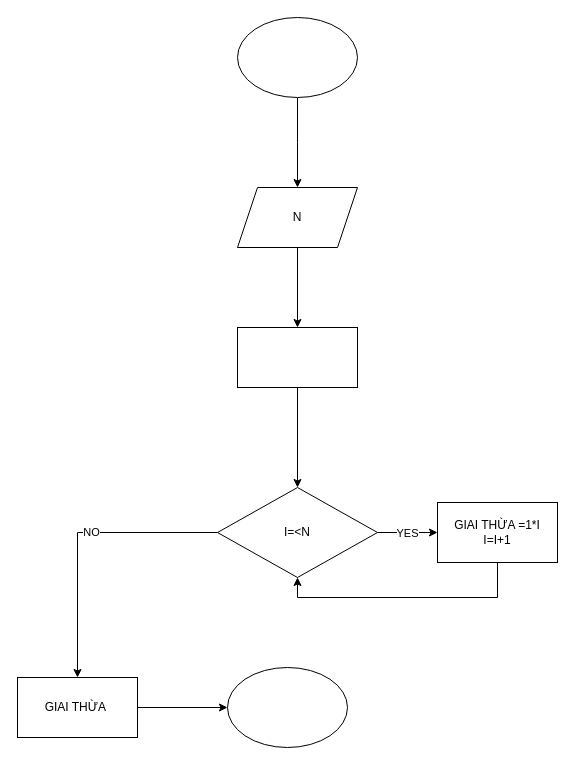
Image size: 575x765. Some labels were removed from this diagram. The shapes that lost their labels are listed below. From the top down, each one's centre as x and y in pixels, then its label:
At point (297, 57): "START".
At point (297, 357): "GIAI THỪA = 1 I =1".
